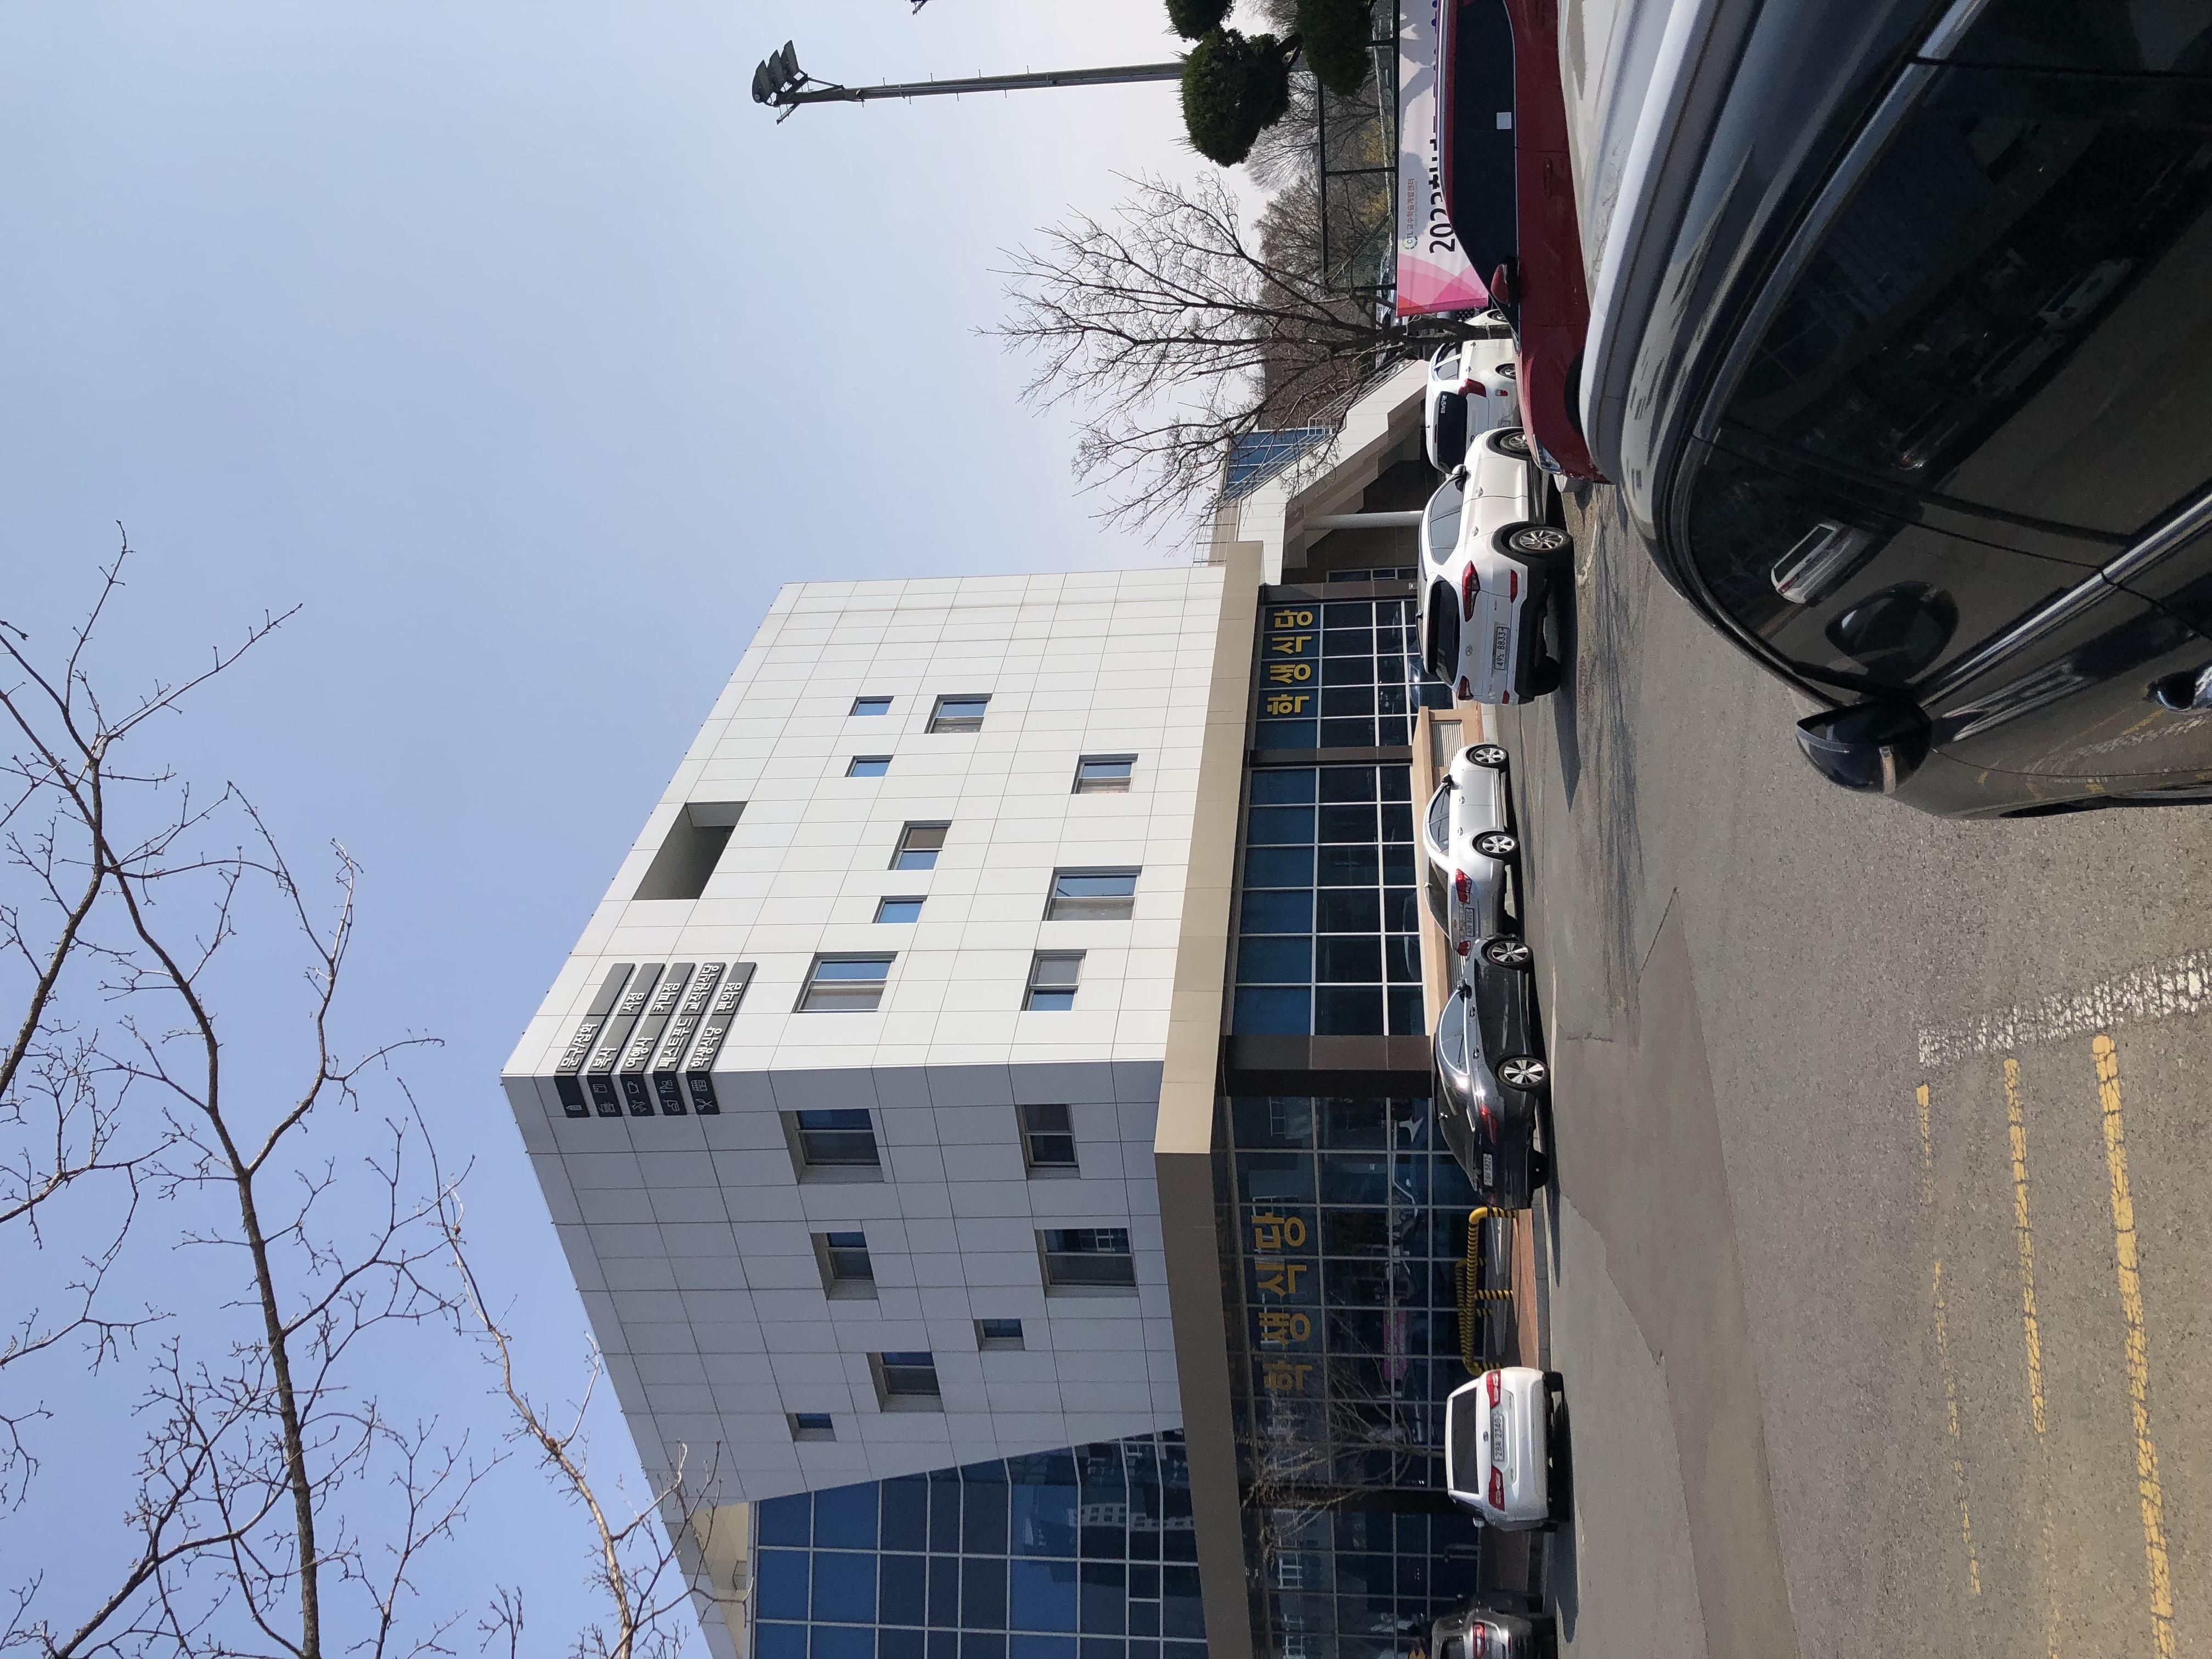building: (0, 361, 1803, 1188)
